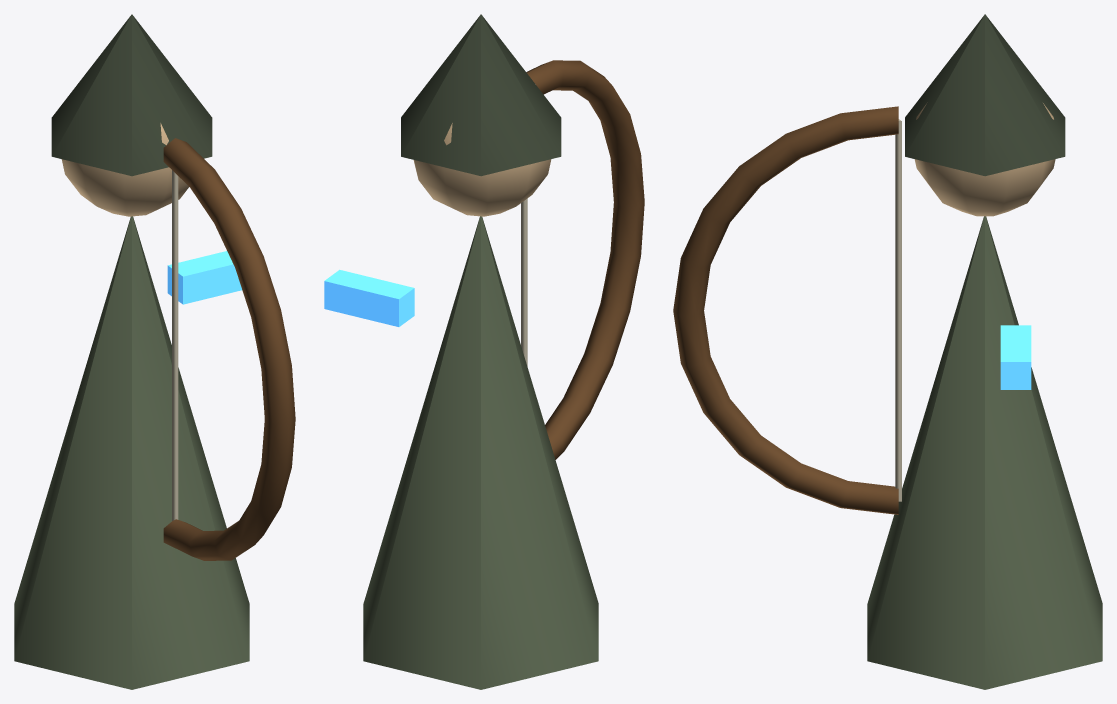
Rendered from archer.glb.
3 renders of one model, left to right at view 1: azimuth 30°, elevation 25°; view 2: azimuth 150°, elevation 25°; view 3: azimuth 270°, elevation 25°, orthographic.
Parts seen in each view (by area): view 1: archer; view 2: archer; view 3: archer.
Boxes of the visible parts, x1,y1,x2,y2 form: archer: (14, 14, 295, 689); archer: (324, 14, 644, 689); archer: (673, 14, 1102, 689).
Bounding box in the file's own units: 0.47 × 1.1 × 0.6955.
